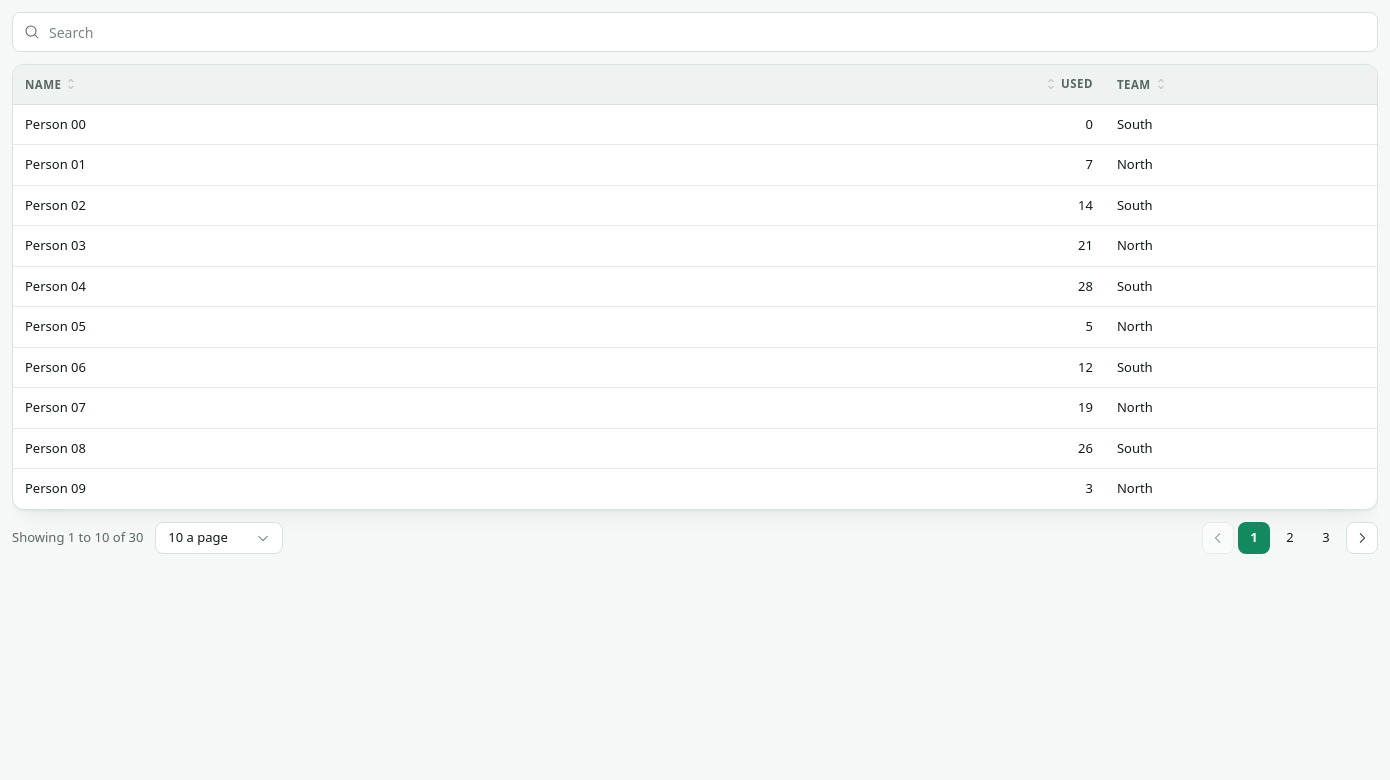
Test case: P107: numbered pages, filter chips, row menus › jumps to a numbered page and marks the current one
Click the button named "Page 3" at (1326, 538), box [1310,522,1342,554]
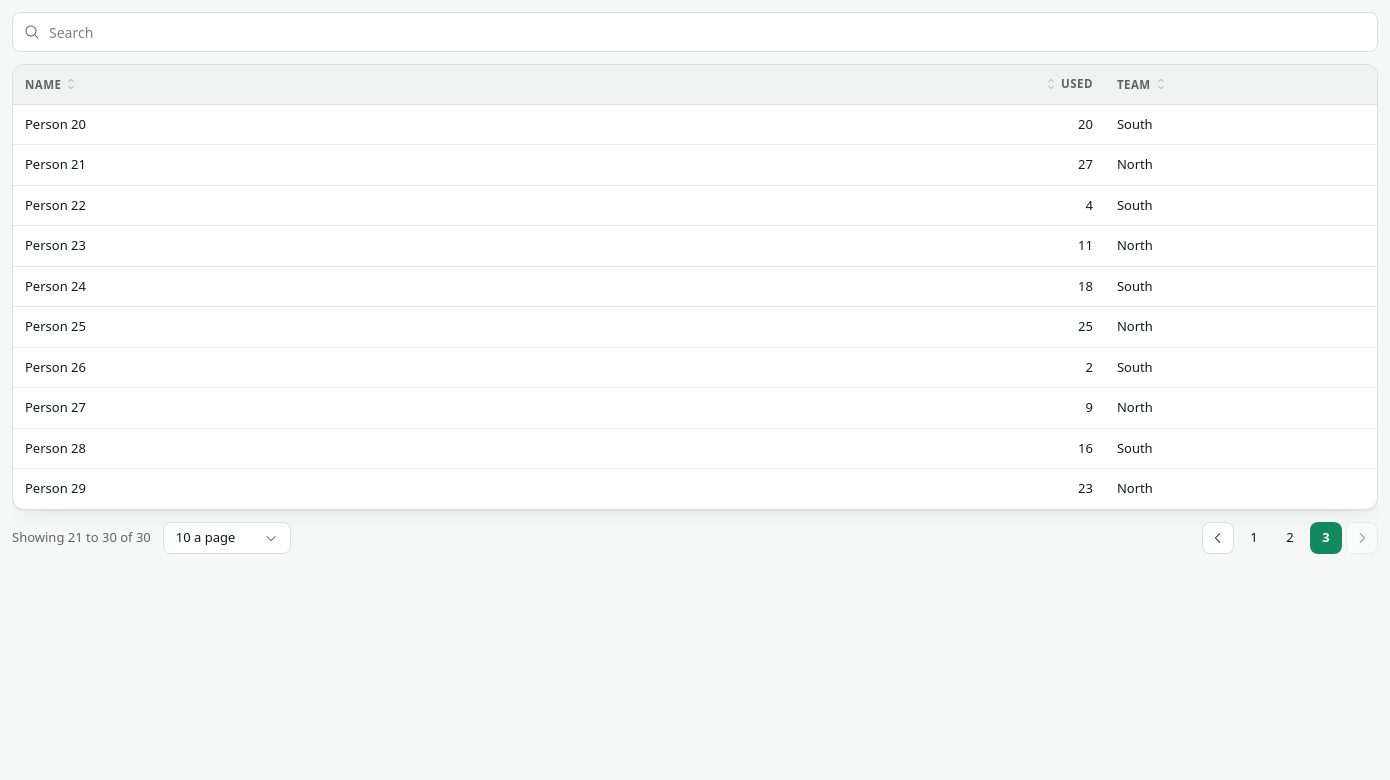
Expected: the button named "Next page" is disabled, [1346,522,1378,554]
Result: the text "Showing 21 to 30 of 30" is shown at [12,528,151,548]
